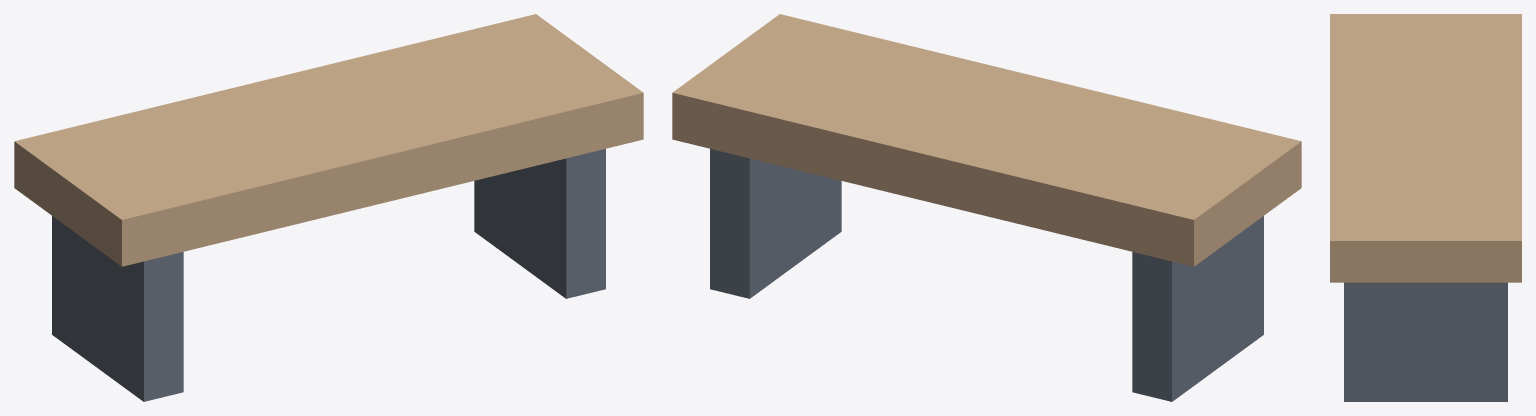
File: wood-bench.glb
3 renders of one model, left to right at view 1: azimuth 30°, elevation 25°; view 2: azimuth 150°, elevation 25°; view 3: azimuth 270°, elevation 25°, orthographic. The views are drawn at different scales.
Parts seen in each view (by area): view 1: world; view 2: world; view 3: world.
Boxes of the visible parts, x1=… form: world: x1=14, y1=14, x2=643, y2=401; world: x1=672, y1=14, x2=1301, y2=401; world: x1=1330, y1=14, x2=1521, y2=401.
Size of the model in its own units: 2.1 by 0.75 by 0.75.
